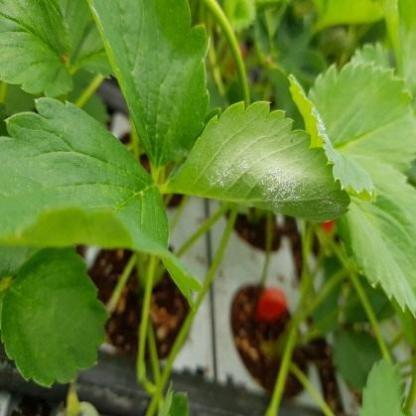Strawberry_Powdery_Mildew_Leaf: (160, 100, 350, 223), (288, 74, 378, 204)
